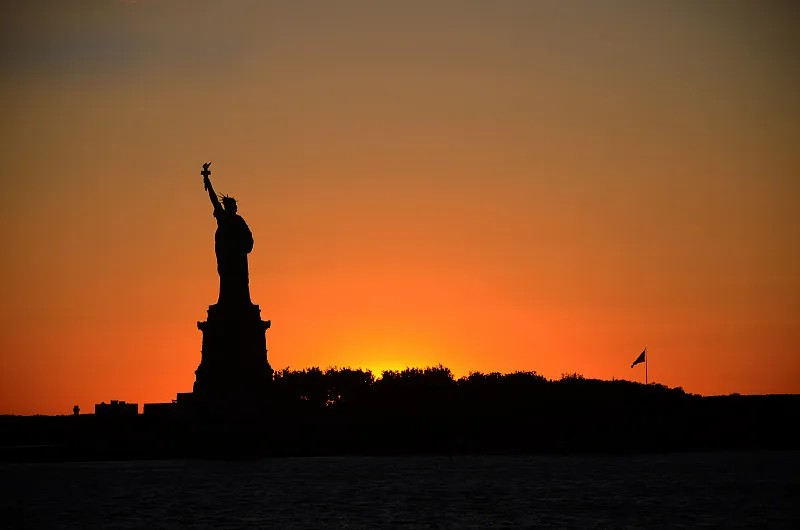SL: (192, 161, 271, 392)
